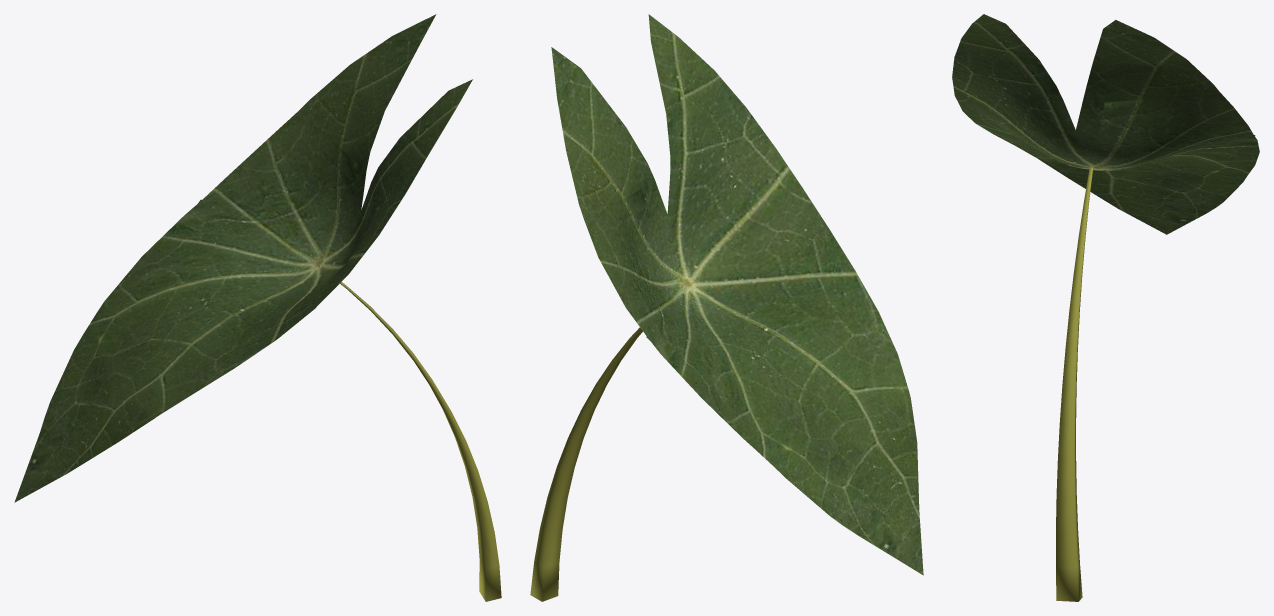
File: Leaf_3.dae
The picture shows the model from 3 angles, left to right: view 1: azimuth 30°, elevation 25°; view 2: azimuth 150°, elevation 25°; view 3: azimuth 270°, elevation 25°; orthographic projection.
Visible parts, largest first — view 1: group_2, group_1; view 2: group_2, group_1; view 3: group_2, group_1.
Boxes of the visible parts, x1,y1,x2,y2 form: group_2: [14, 14, 472, 502]; group_1: [319, 266, 501, 601]; group_2: [551, 14, 923, 575]; group_1: [530, 282, 694, 601]; group_2: [952, 14, 1259, 234]; group_1: [1056, 167, 1093, 601].
Bounding box in the file's own units: 17.65 × 10.91 × 22.14.
Materials: 2 (1 with a texture image).
